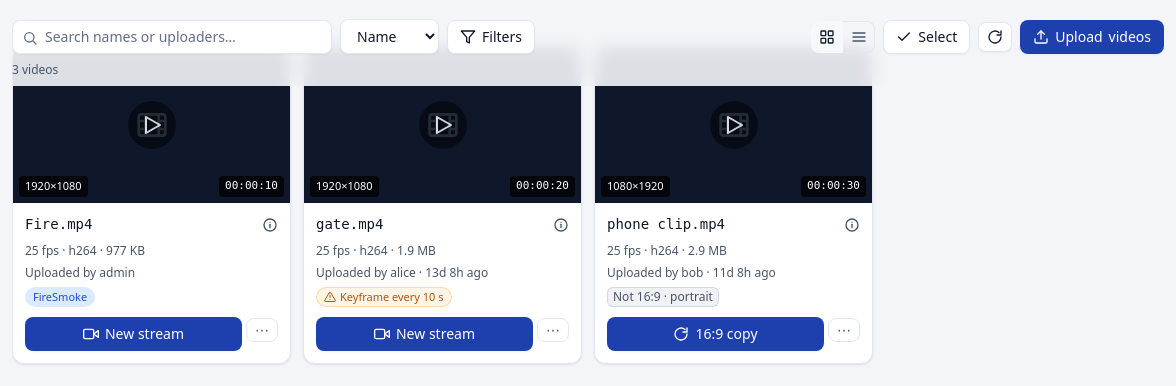
Test: VideoLibrary › filters from the toolbar, counts, and clears
The width and height of the screenshot is (1176, 386).
Check: the element with test id "library-count" reads "3 videos", box [12,61,58,78]
Click the button "Filters" at (491,36), box [447,20,535,54]
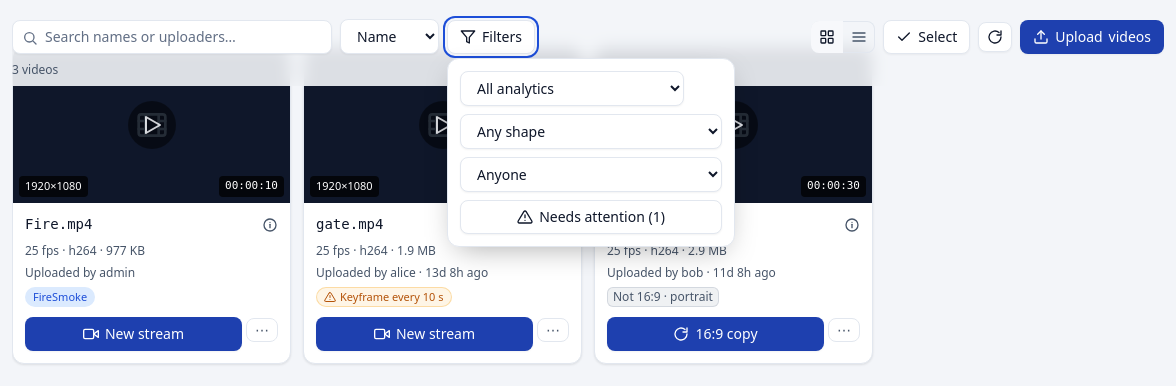
Select "Not 16:9" in the dropdown named "Filter by shape" at (591,131), box [460,114,722,148]
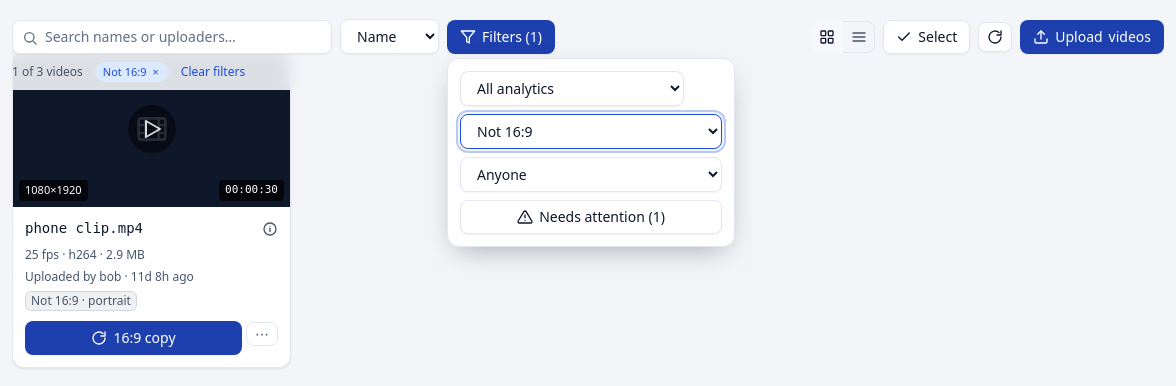
Check: the button named "Remove filter: Not 16:9" is shown, box [150,64,161,80]
Check: the element with test id "library-count" shows "1 of 3 videos", box [12,63,83,80]
Check: the number of elements with test id "thumb-box" is 1, box [13,51,290,207]
Type "zzz" into the field named "Search videos" at (172,36), box [12,20,332,54]
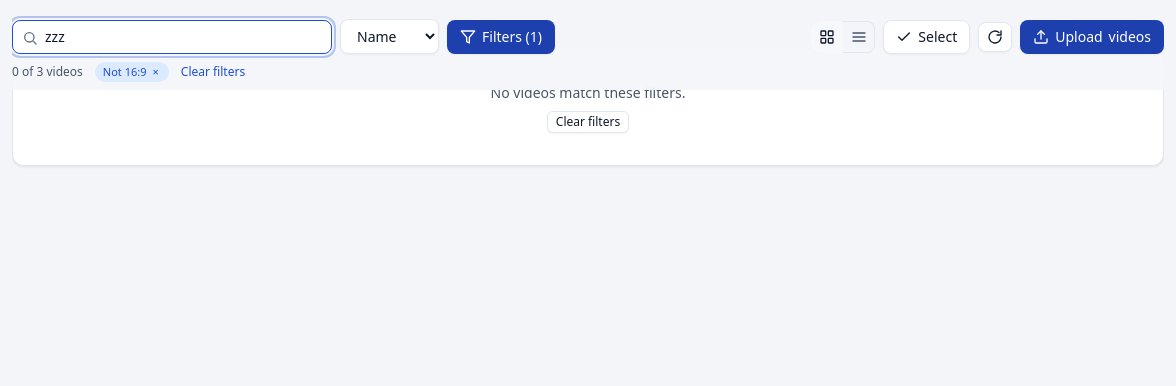
Check: the element with test id "no-match" is shown, box [12,50,1164,166]
Click the button "Clear filters" next to "Not 16:9" at (213,72), box [181,64,245,80]
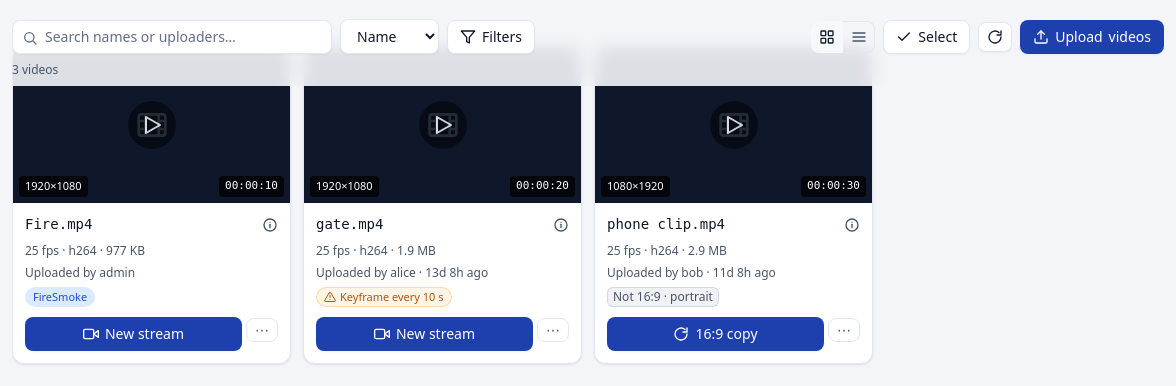
Check: the number of elements with test id "thumb-box" is 3, box [13,47,290,203]; [304,47,581,203]; [595,47,872,203]
Check: the number of buttons with test id "problem-chip" is 1, box [316,287,452,307]
Click the button "Filters" at (491,36), box [447,20,535,54]
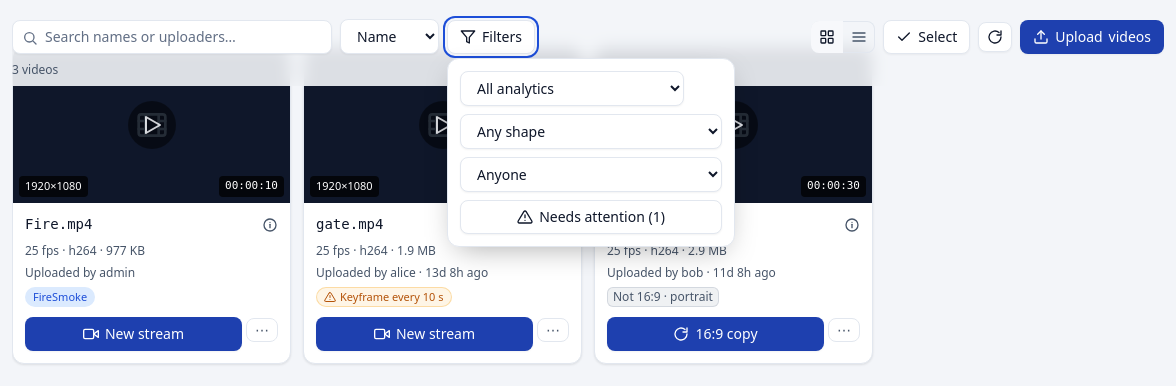
Click the button "Needs attention (1)" at (591,216), box [460,200,722,234]
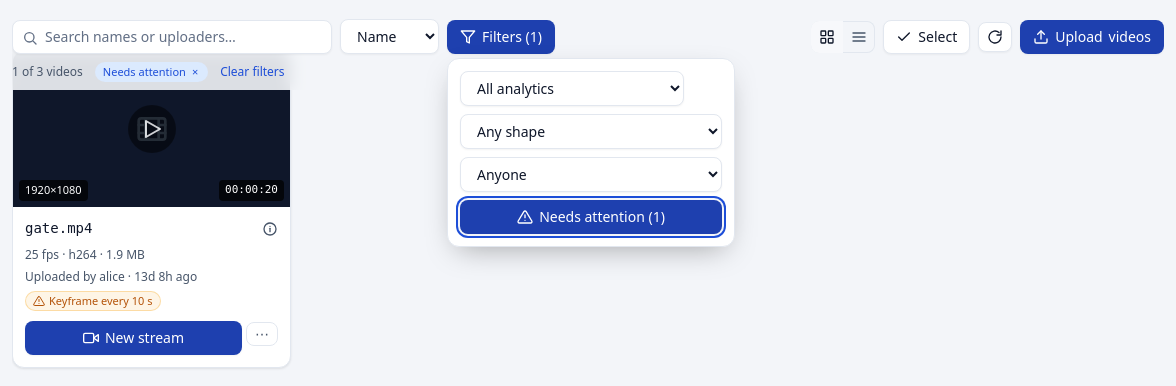
Check: the number of elements with test id "thumb-box" is 1, box [13,51,290,207]
